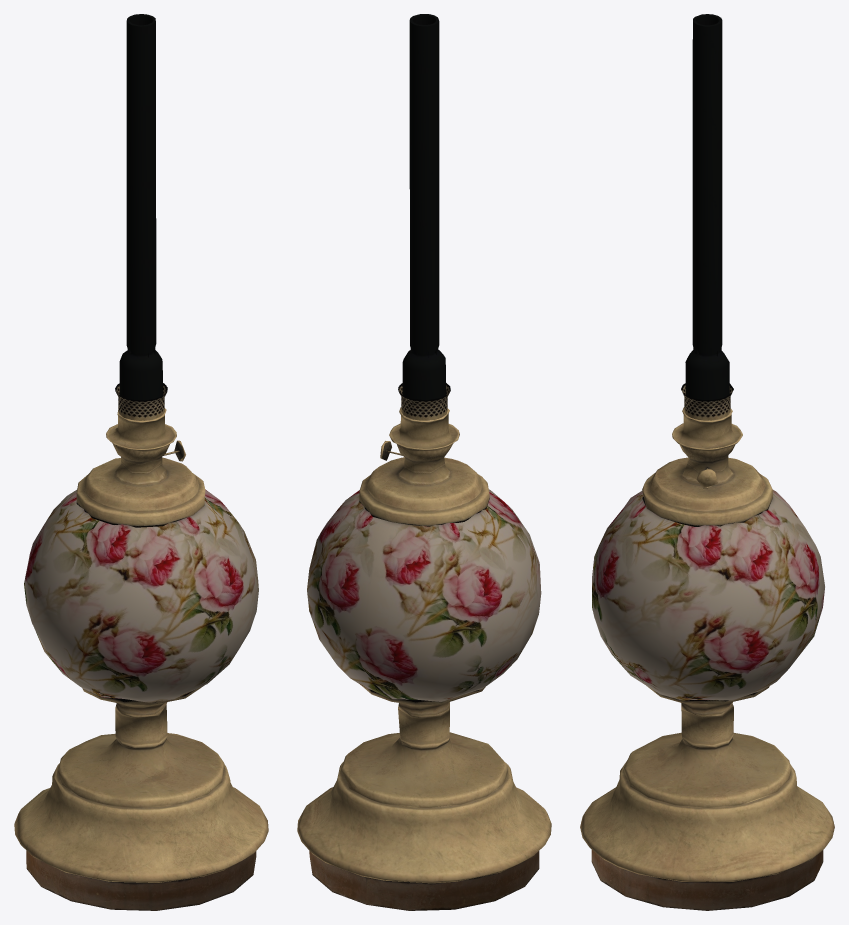
File: vintage_oil_lamp_lod2.glb
3 views of the same model, side by side, from view 1: azimuth 30°, elevation 25°; view 2: azimuth 150°, elevation 25°; view 3: azimuth 270°, elevation 25° (orthographic).
Visible parts, largest first — view 1: vintage_oil_lamp, vintage_oil_lamp_glass; view 2: vintage_oil_lamp, vintage_oil_lamp_glass; view 3: vintage_oil_lamp, vintage_oil_lamp_glass.
Boxes of the visible parts, left/top/right/bottom form: vintage_oil_lamp: left=14, top=408, right=268, bottom=910; vintage_oil_lamp_glass: left=115, top=14, right=167, bottom=421; vintage_oil_lamp: left=297, top=407, right=551, bottom=910; vintage_oil_lamp_glass: left=398, top=14, right=450, bottom=422; vintage_oil_lamp: left=580, top=407, right=834, bottom=910; vintage_oil_lamp_glass: left=681, top=14, right=733, bottom=421.
Bounding box in the file's own units: 0.22 × 0.8016 × 0.22.
3 materials, 3 textured.
